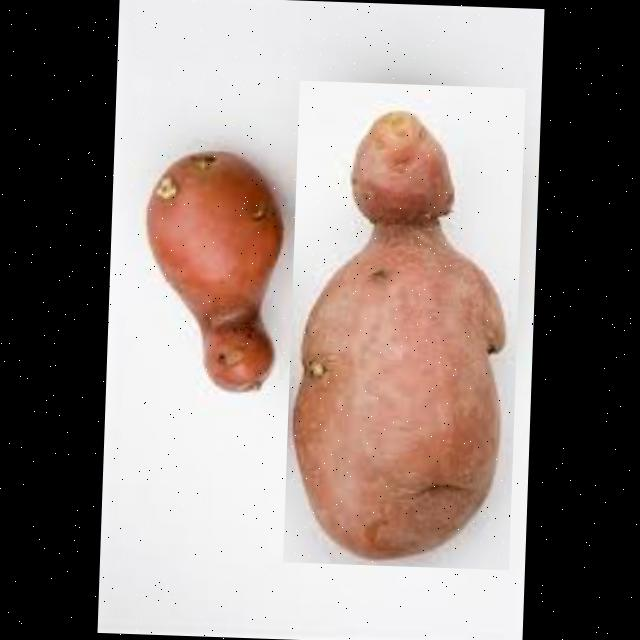Damaged potato: (282, 79, 524, 569), (123, 146, 290, 410)
